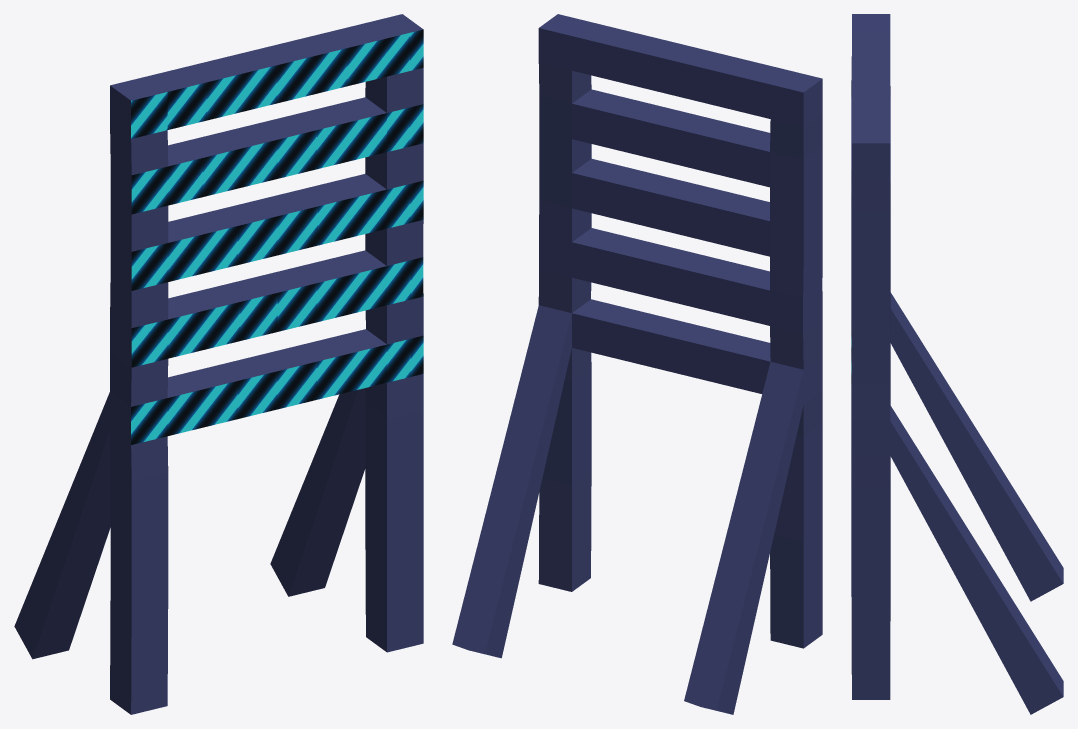
The model's file is obstruction_4.fbx.
3 views of the same model, side by side, from view 1: azimuth 30°, elevation 25°; view 2: azimuth 150°, elevation 25°; view 3: azimuth 270°, elevation 25° (orthographic). The views are drawn at different scales.
Parts seen in each view (by area): view 1: 4; view 2: 4; view 3: 4.
Boxes of the visible parts, x1,y1,x2,y2 form: 4: (14,14,423,714); 4: (452,14,822,714); 4: (851,14,1063,714).
Bounding box in the file's own units: 160 × 330 × 111.
